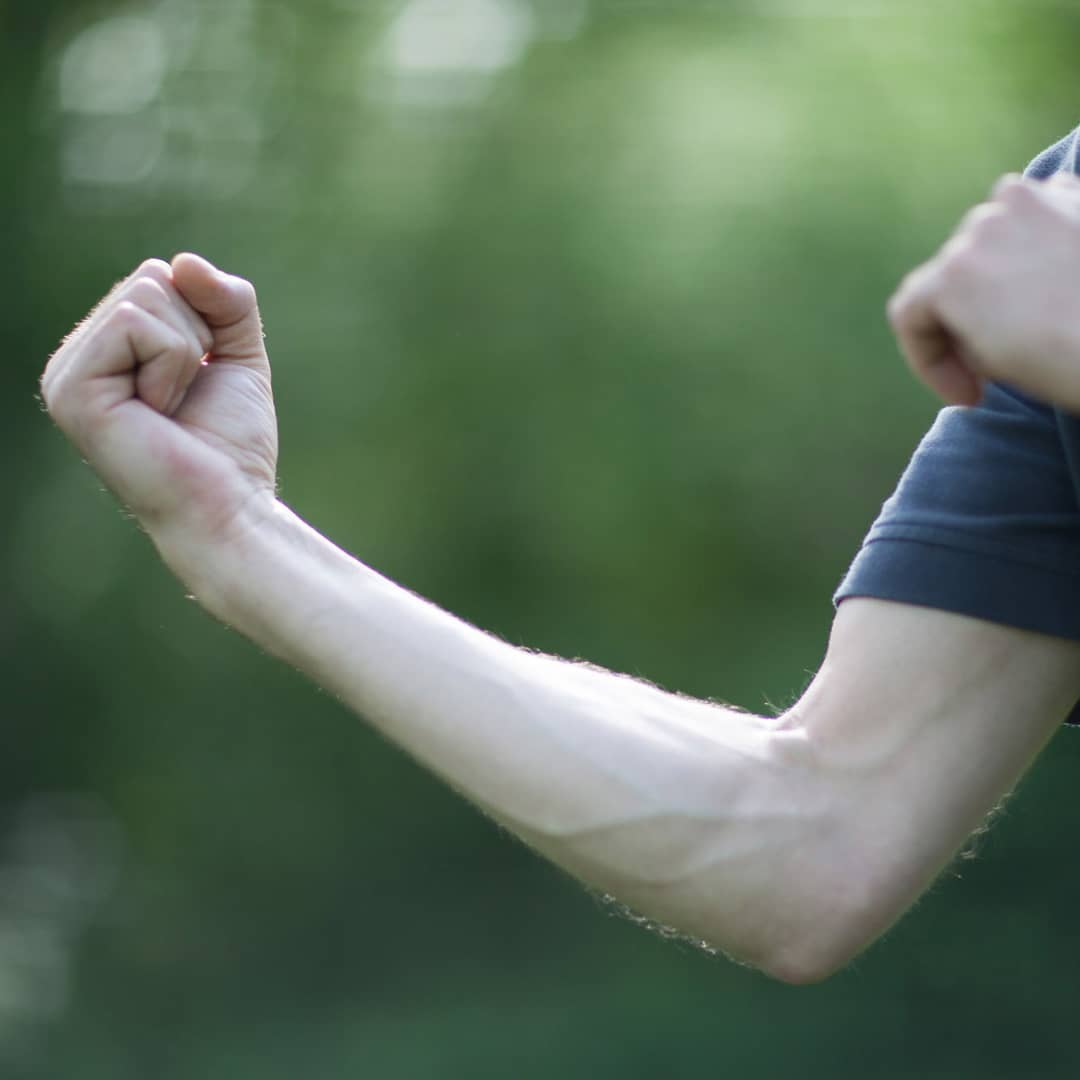hand: (66, 254, 273, 522)
